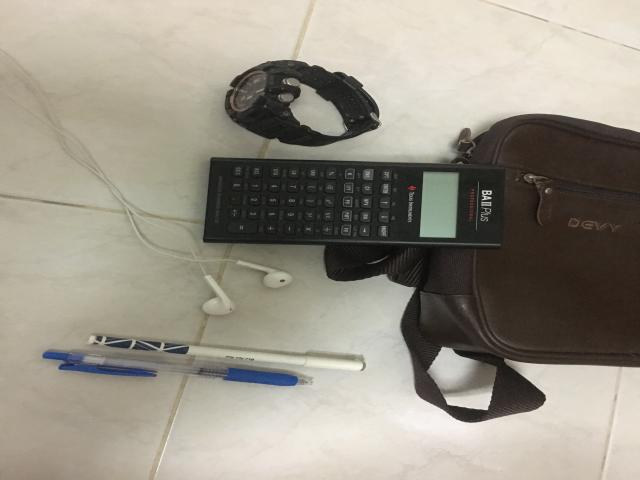Pen: (88, 336, 365, 371), (43, 351, 312, 386)
Watch: (225, 60, 380, 146)
wire: (0, 53, 296, 316)
